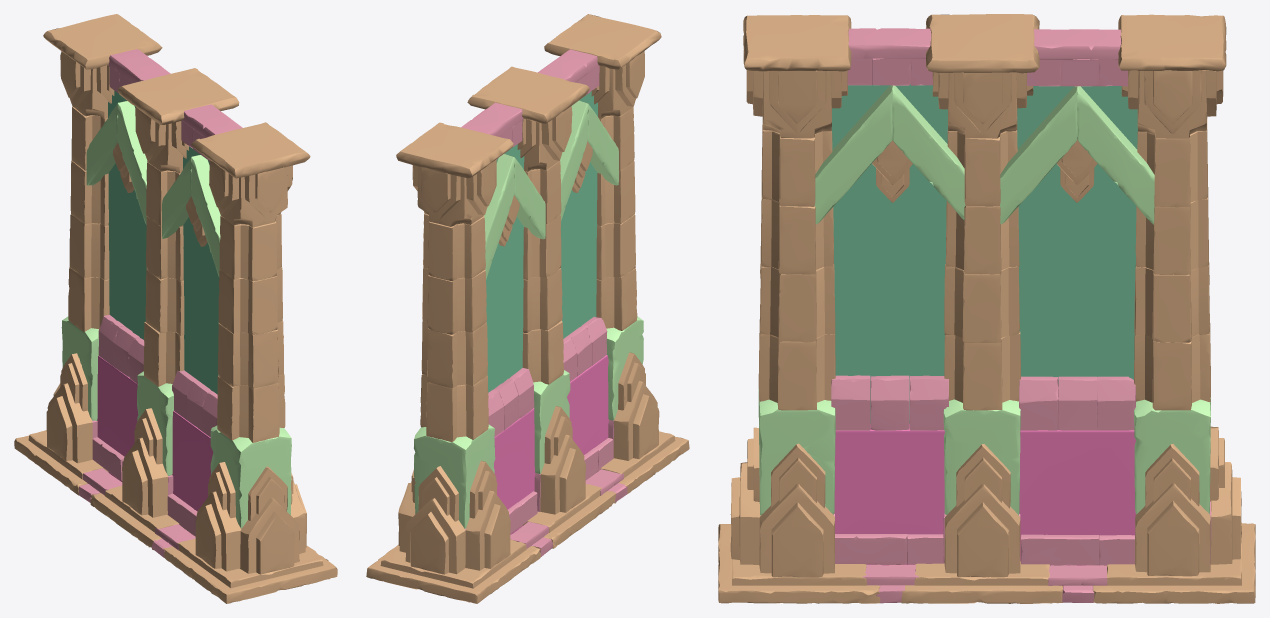
File: Column_base_07_large.fbx
3 renders of one model, left to right at view 1: azimuth 30°, elevation 25°; view 2: azimuth 150°, elevation 25°; view 3: azimuth 270°, elevation 25°, orthographic. The views are drawn at different scales.
Visible parts, largest first — view 1: Column_base_07_large_LOD0; view 2: Column_base_07_large_LOD0; view 3: Column_base_07_large_LOD0.
Boxes of the visible parts, left/top/right/bottom form: Column_base_07_large_LOD0: left=14, top=14, right=337, bottom=603; Column_base_07_large_LOD0: left=366, top=14, right=689, bottom=603; Column_base_07_large_LOD0: left=718, top=14, right=1255, bottom=603.
Size of what is drawn, in the model's own units: 269 by 974 by 889.
